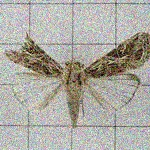Spodoptera litura: (4, 32, 149, 128)
